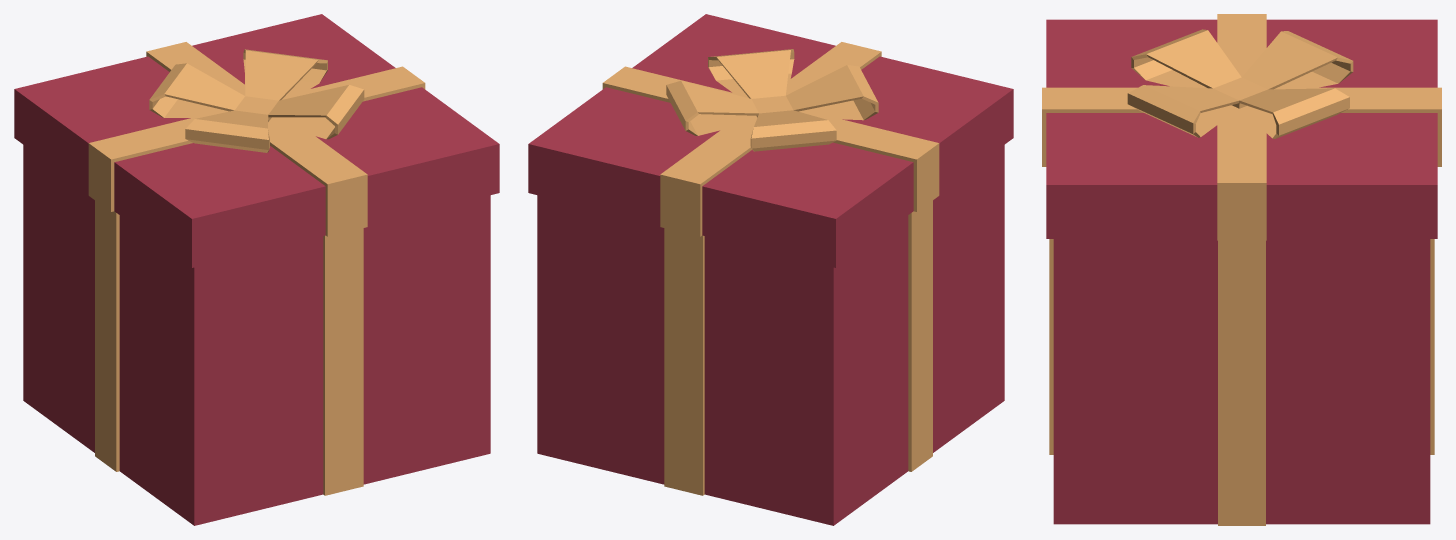
The model's file is Box.Gift.fbx.
The picture shows the model from 3 angles, left to right: view 1: azimuth 30°, elevation 25°; view 2: azimuth 150°, elevation 25°; view 3: azimuth 270°, elevation 25°; orthographic projection. The views are drawn at different scales.
Visible parts, largest first — view 1: Box.Gift.Bottom, Box.Gift.Top; view 2: Box.Gift.Bottom, Box.Gift.Top; view 3: Box.Gift.Bottom, Box.Gift.Top.
Boxes of the visible parts, bbox=[...] form: Box.Gift.Bottom: bbox=[23, 145, 490, 525]; Box.Gift.Top: bbox=[14, 14, 499, 267]; Box.Gift.Bottom: bbox=[537, 145, 1004, 525]; Box.Gift.Top: bbox=[528, 14, 1013, 267]; Box.Gift.Bottom: bbox=[1049, 239, 1434, 525]; Box.Gift.Top: bbox=[1042, 14, 1441, 240].
Size of the model in its own units: 86.78 by 89.34 by 86.78.
